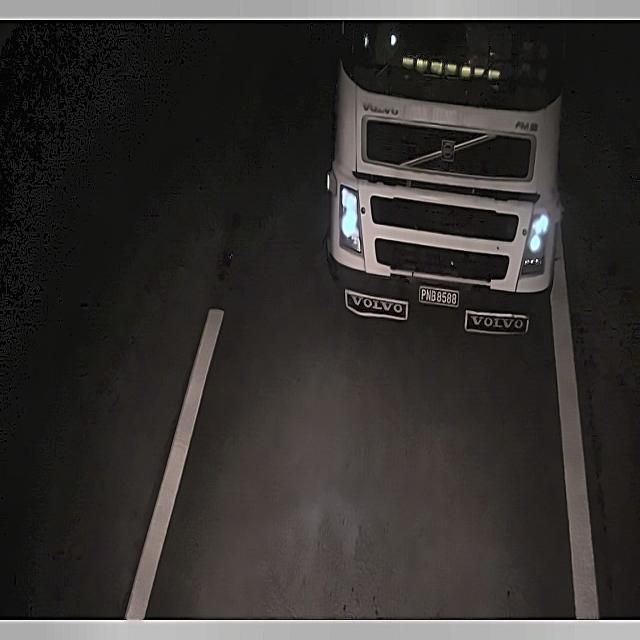car: (417, 282, 463, 312)
